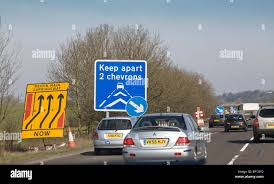car: (123, 112, 207, 165), (95, 116, 132, 155), (253, 105, 274, 143), (225, 115, 247, 133), (208, 112, 225, 130)
